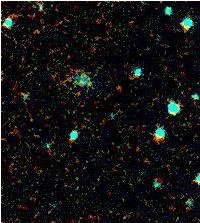star: (102, 72, 132, 102)
